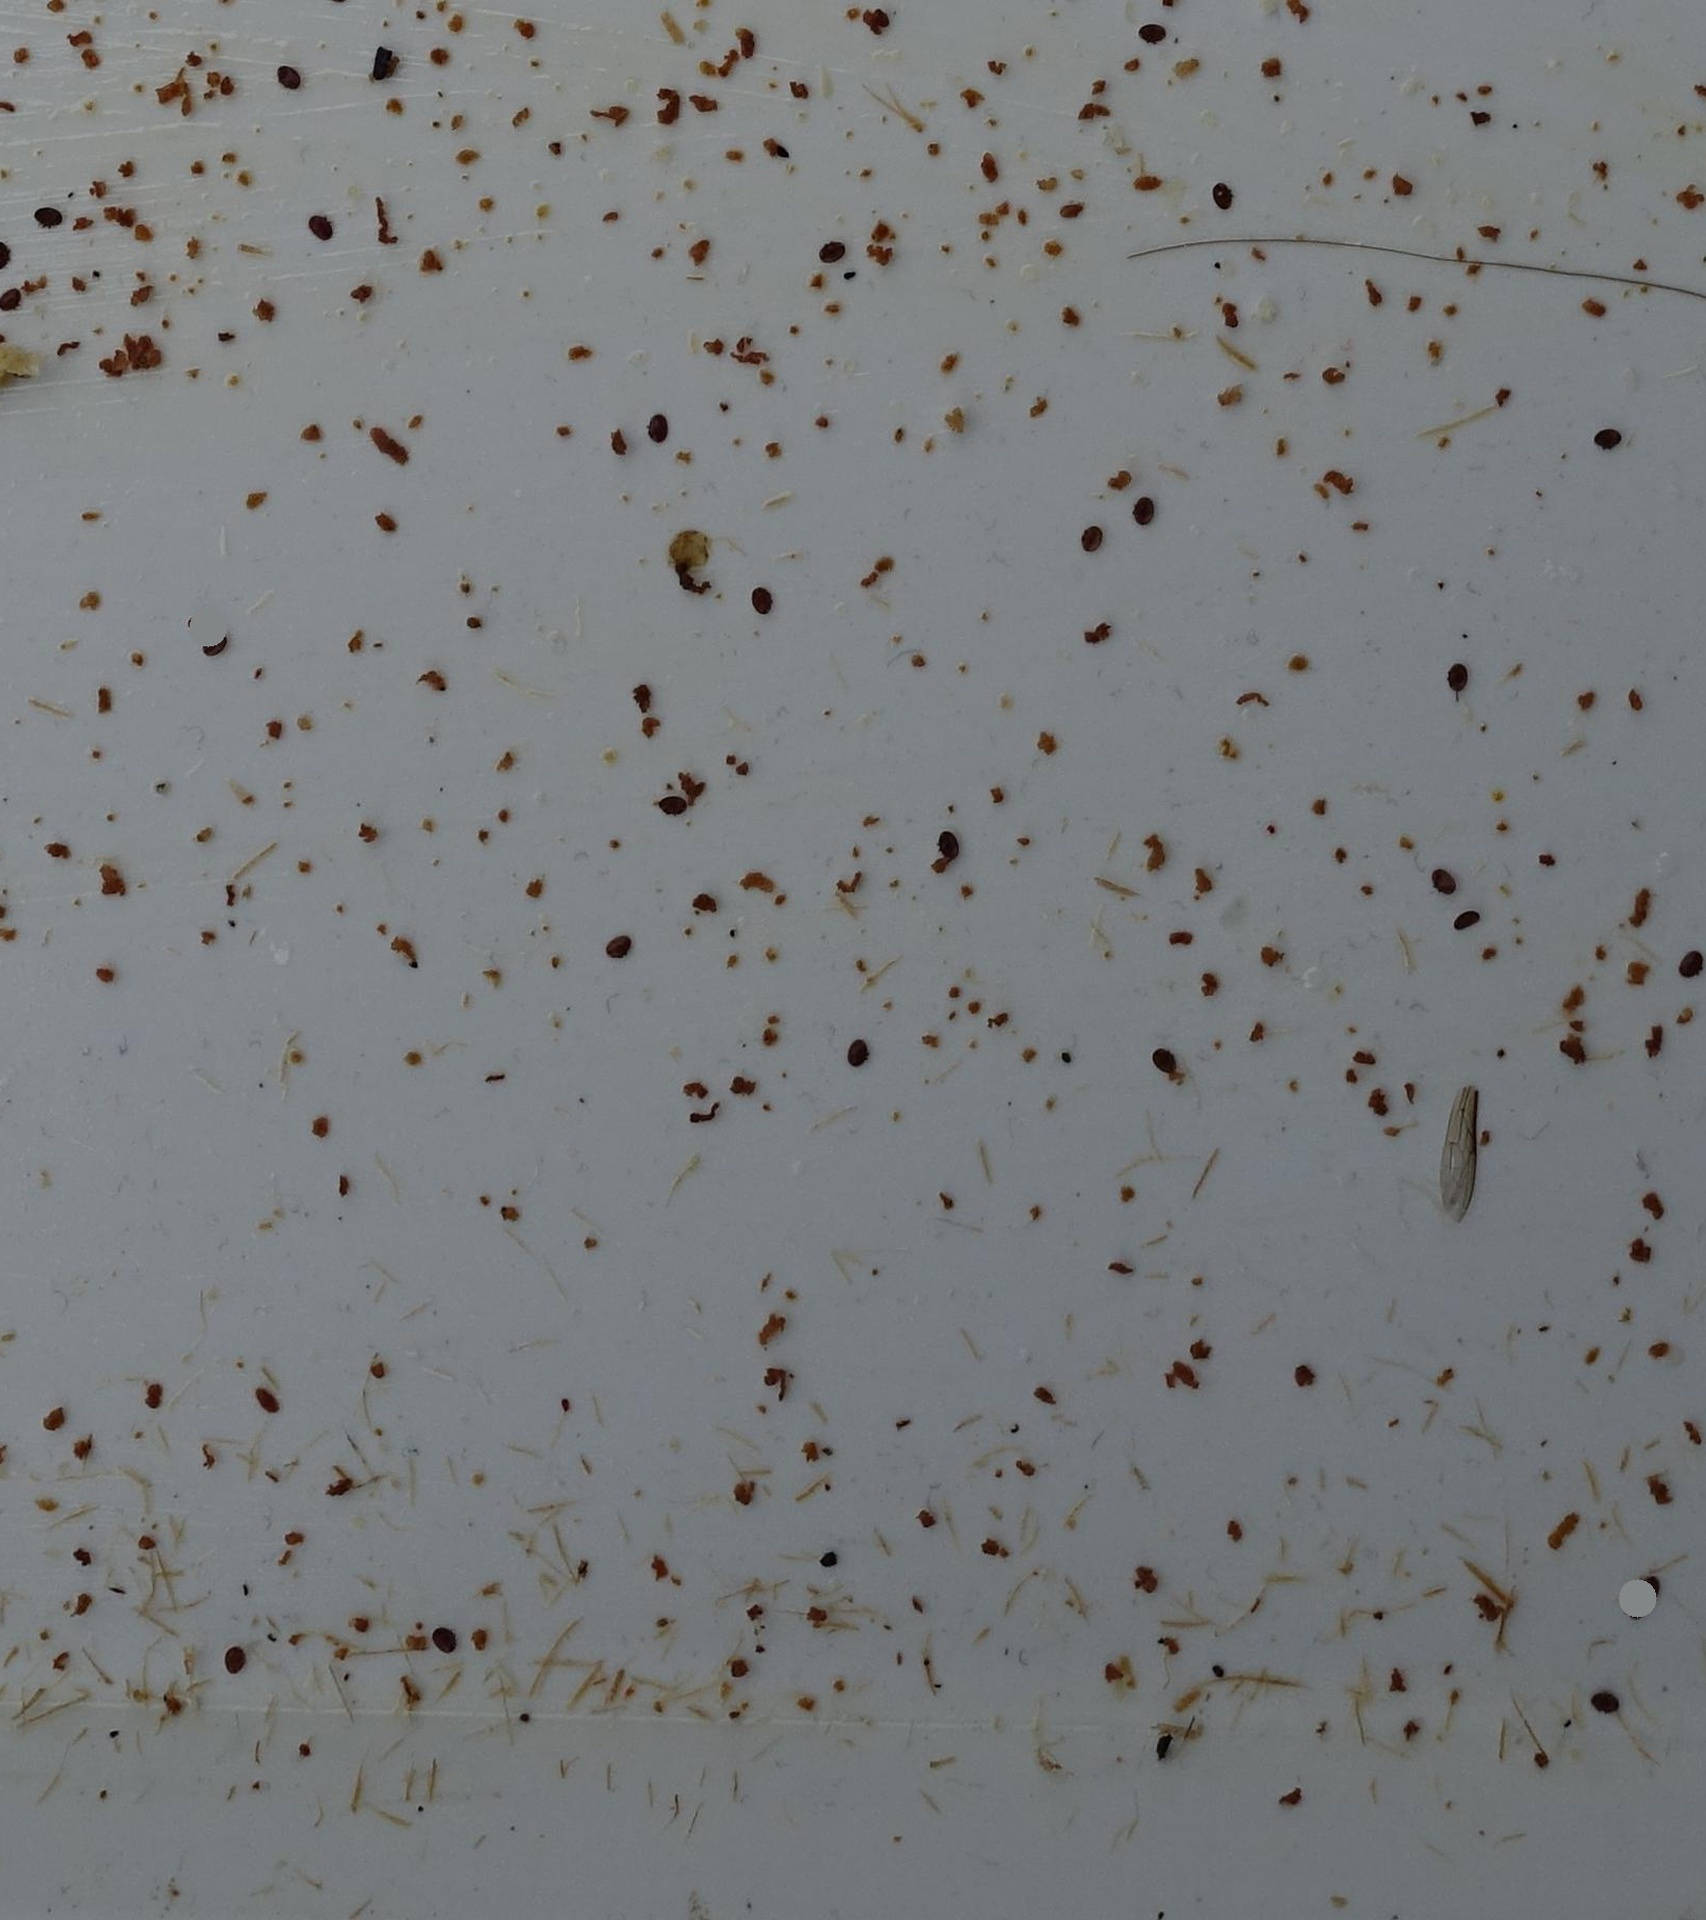Varroa: (179, 603, 221, 642), (194, 626, 234, 665), (664, 790, 697, 820), (809, 232, 837, 260), (1154, 1046, 1184, 1072), (1676, 948, 1703, 976), (1433, 866, 1457, 894), (433, 1624, 459, 1648), (939, 833, 962, 861), (1592, 1688, 1619, 1711), (749, 583, 772, 609), (277, 63, 303, 86), (38, 201, 61, 227), (310, 216, 334, 239), (1596, 423, 1619, 448), (1133, 501, 1158, 524), (1131, 26, 1154, 51), (608, 935, 627, 962), (1212, 183, 1233, 206), (1449, 664, 1471, 687), (846, 1037, 868, 1060), (226, 1650, 240, 1665), (833, 244, 846, 259), (2, 287, 15, 301), (1457, 912, 1471, 925), (1088, 530, 1100, 542), (655, 423, 665, 436), (1153, 26, 1163, 38)
